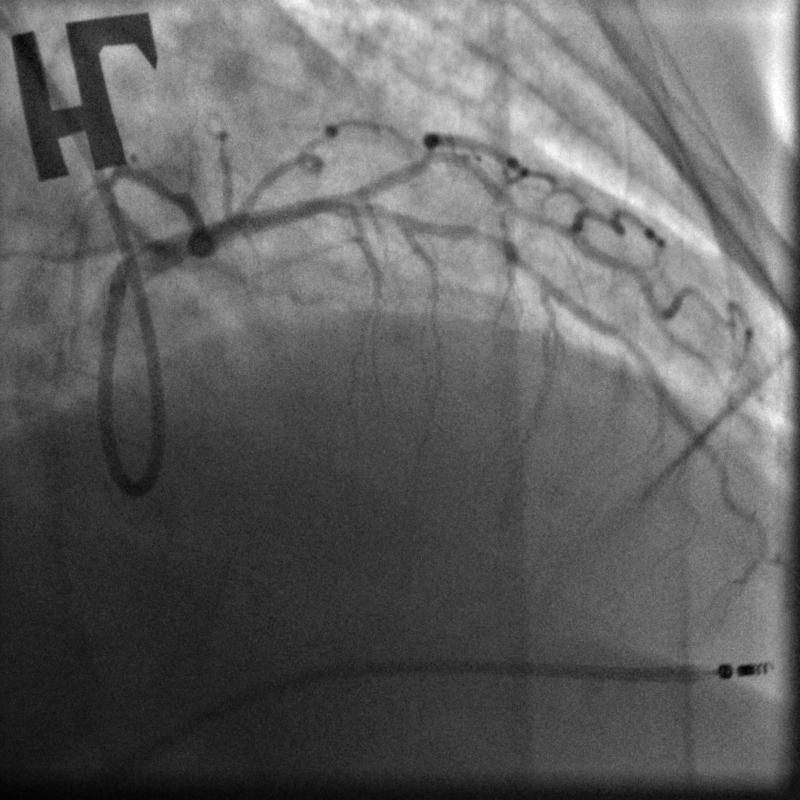Stenosis: (453, 218, 515, 261)
